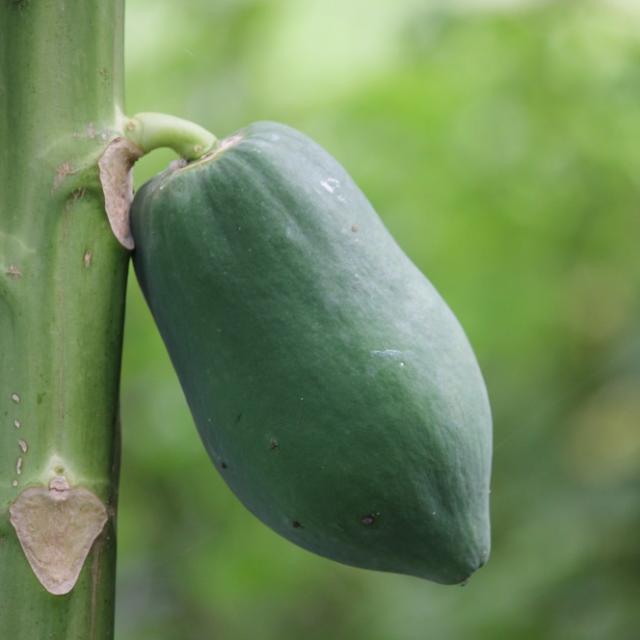Pepaya unrippen: (128, 118, 498, 594)
